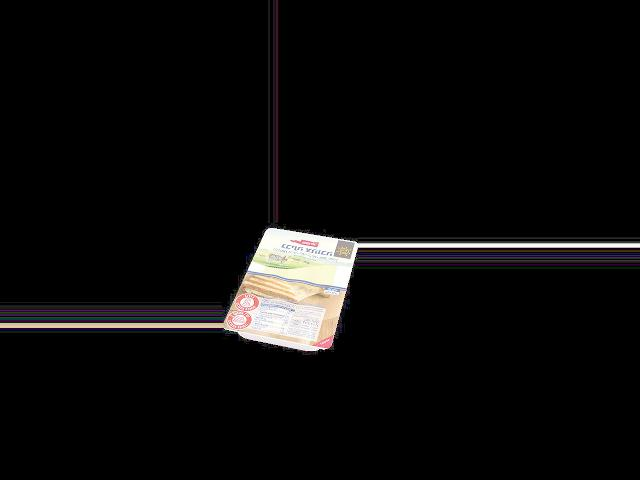cheese: (243, 229, 346, 348)
